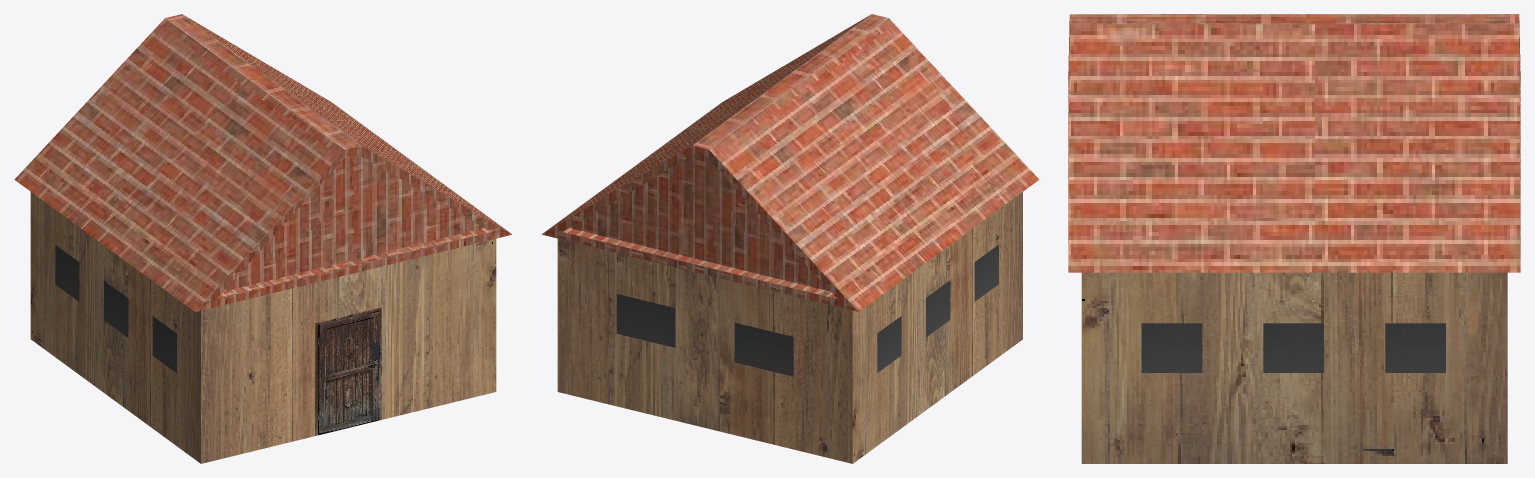
File: basicHousePSX.glb
The picture shows the model from 3 angles, left to right: view 1: azimuth 30°, elevation 25°; view 2: azimuth 150°, elevation 25°; view 3: azimuth 270°, elevation 25°; orthographic projection. The views are drawn at different scales.
Parts seen in each view (by area): view 1: Cube; view 2: Cube; view 3: Cube.
Boxes of the visible parts, x1,y1,x2,y2 form: Cube: (14,14,511,463); Cube: (542,14,1039,463); Cube: (1068,14,1520,463).
Bounding box in the file's own units: 13.65 × 11.66 × 13.47.
Materials: 2 (2 with a texture image).
